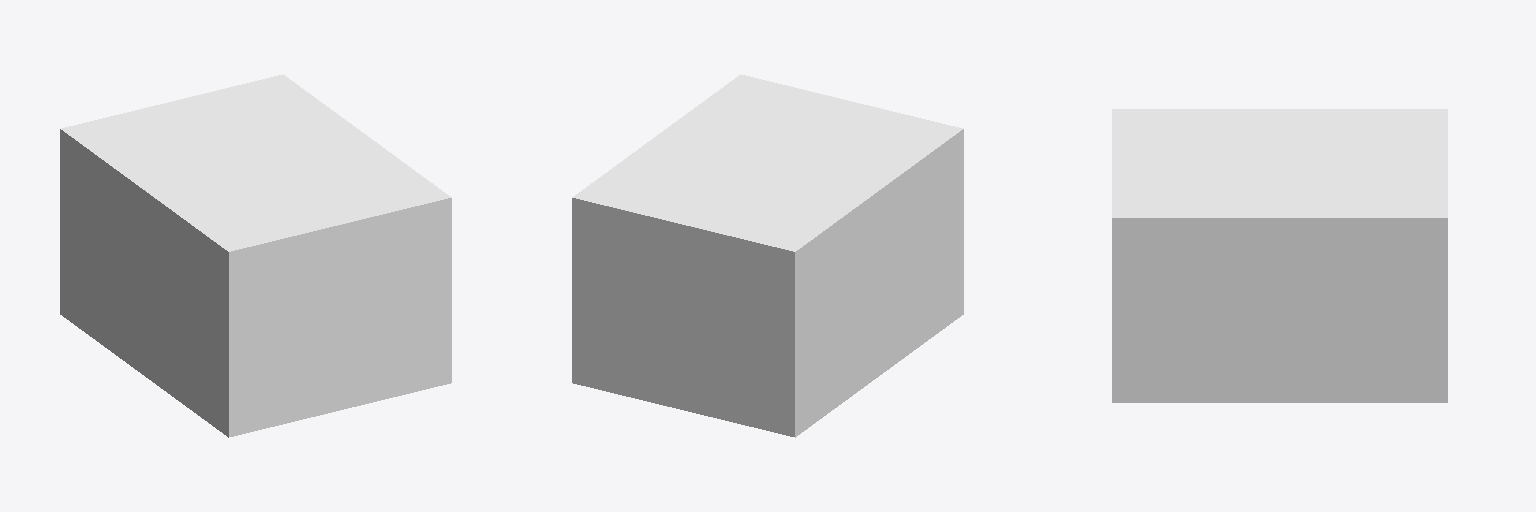
File: TestRoom1.obj
3 renders of one model, left to right at view 1: azimuth 30°, elevation 25°; view 2: azimuth 150°, elevation 25°; view 3: azimuth 270°, elevation 25°, orthographic.
Parts seen in each view (by area): view 1: object 1; view 2: object 1; view 3: object 1.
Boxes of the visible parts, x1=… form: object 1: x1=60, y1=74, x2=451, y2=437; object 1: x1=572, y1=74, x2=963, y2=437; object 1: x1=1112, y1=109, x2=1447, y2=402.
Size of the model in its own units: 3.9 by 3.1 by 5.1.